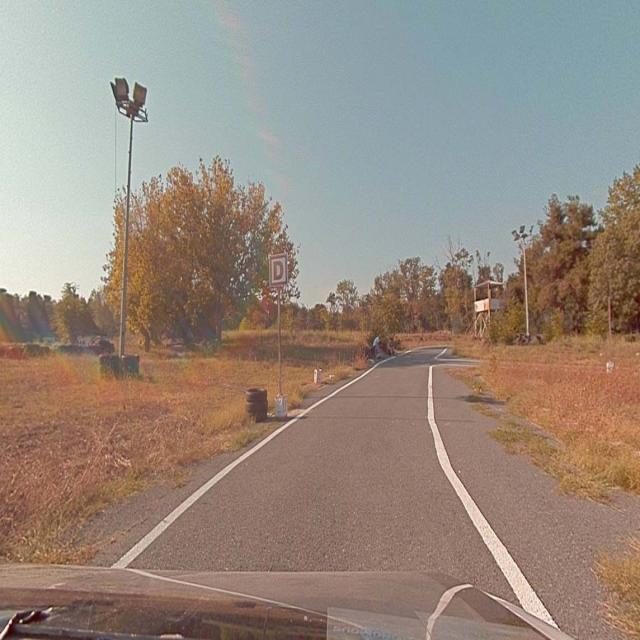durak: (268, 255, 288, 285)
